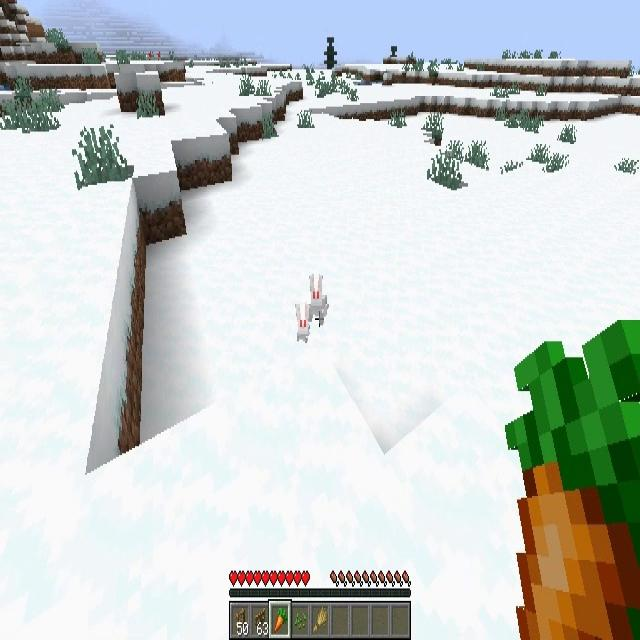rabbit: (310, 273, 328, 323), (295, 302, 310, 342)
